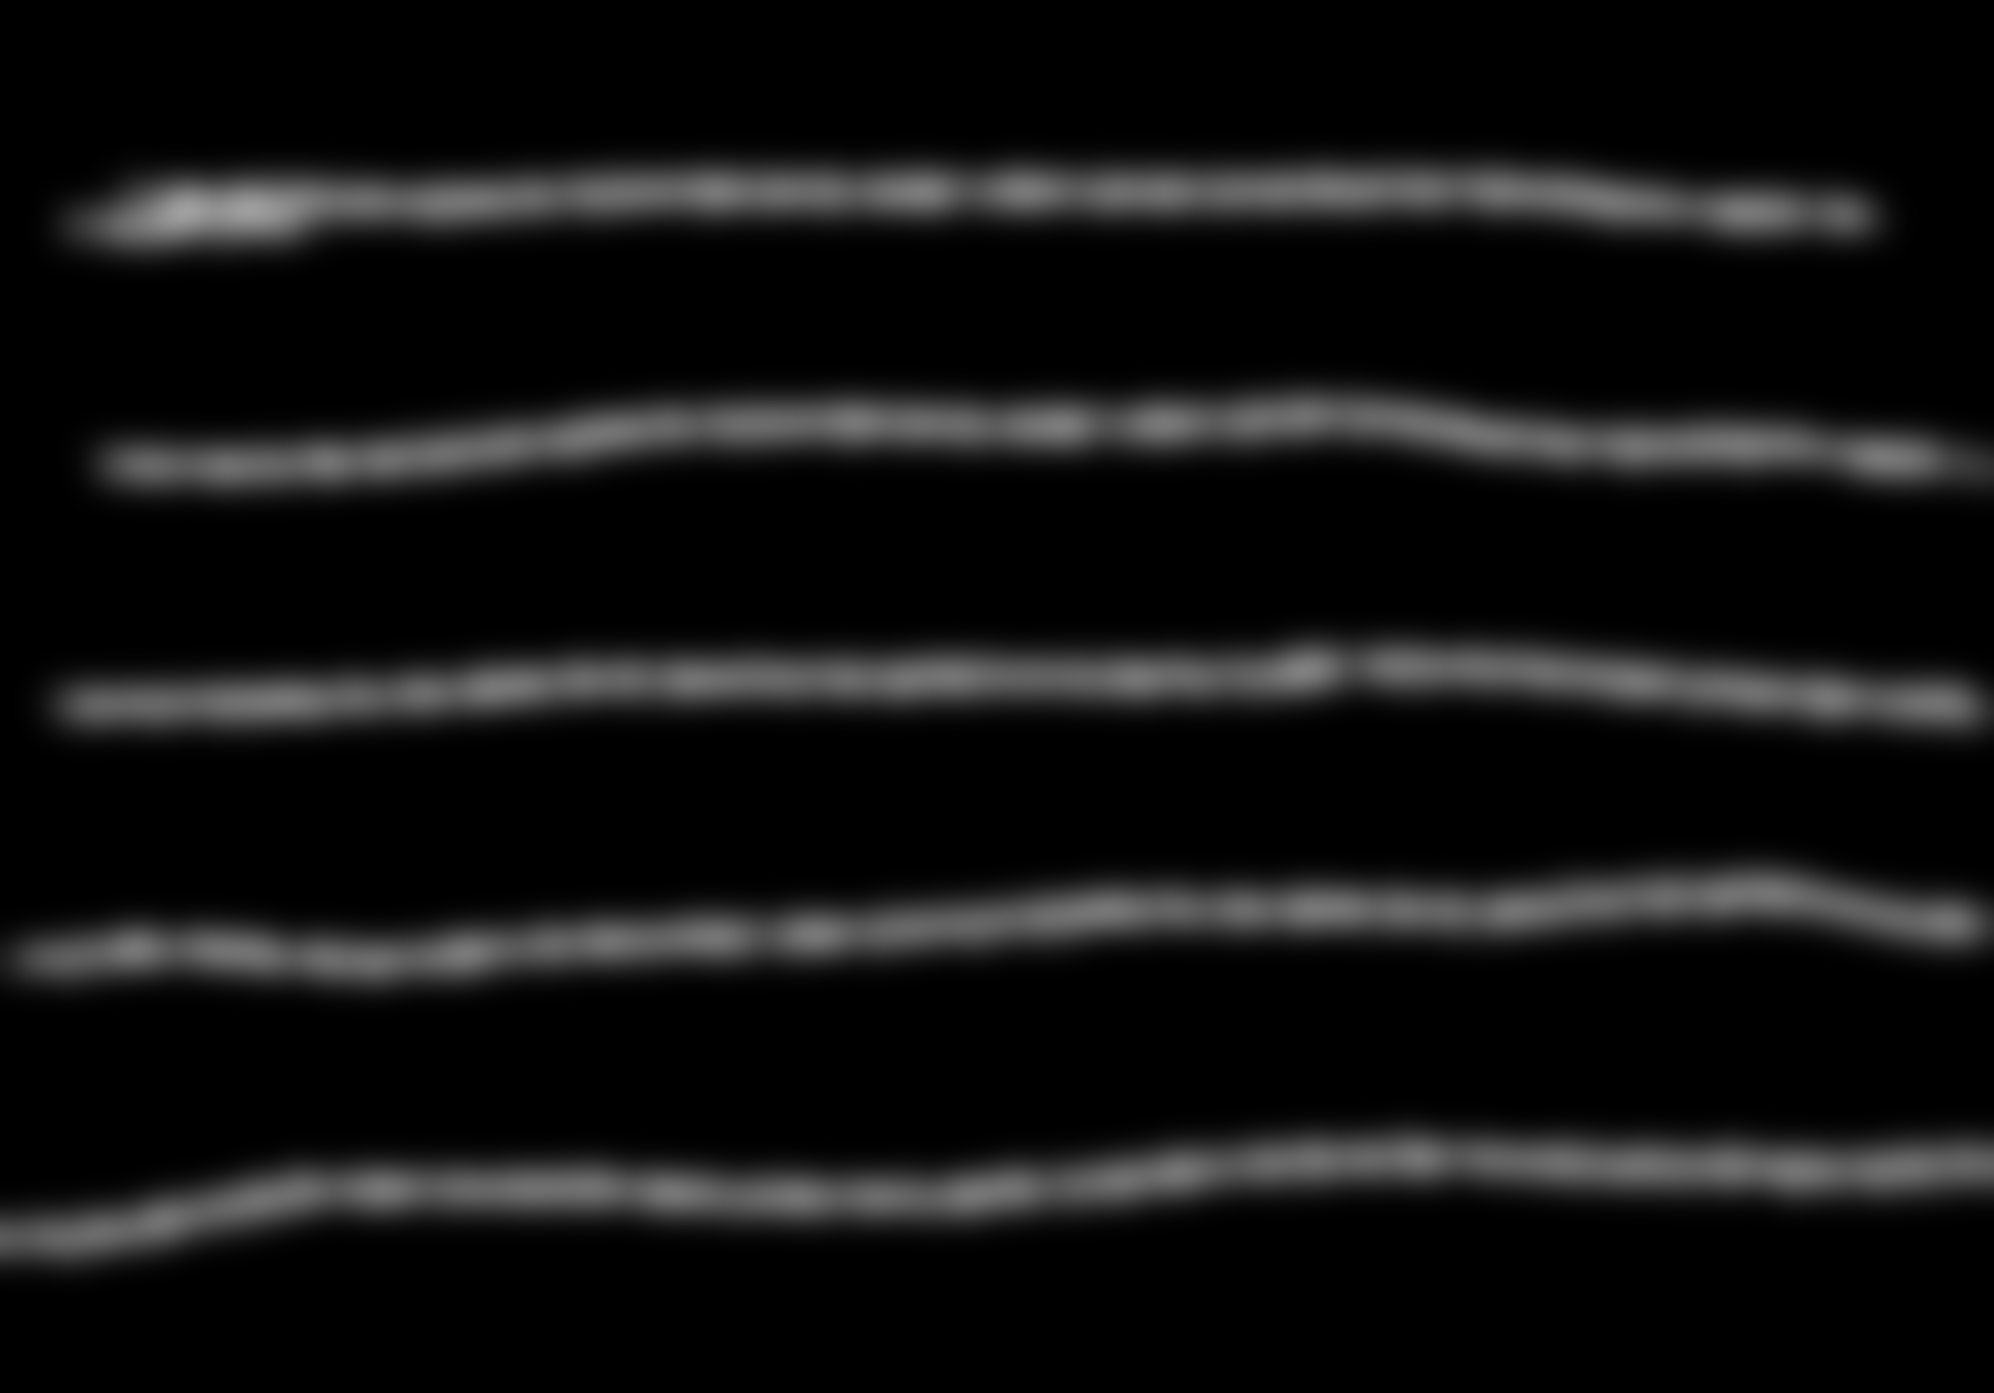Laminar flow: (42, 102, 1968, 1260)
